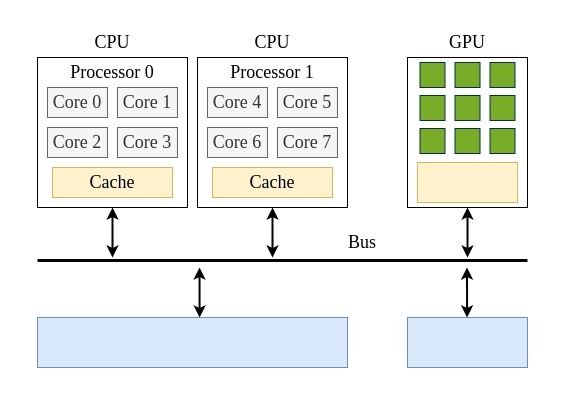
This 564x404 diagram has some shape labels left out. Each missing label, with the centre of its shape:
GPU Memory: [467,182]
Main Memory: [192,342]
NIC: [467,342]
